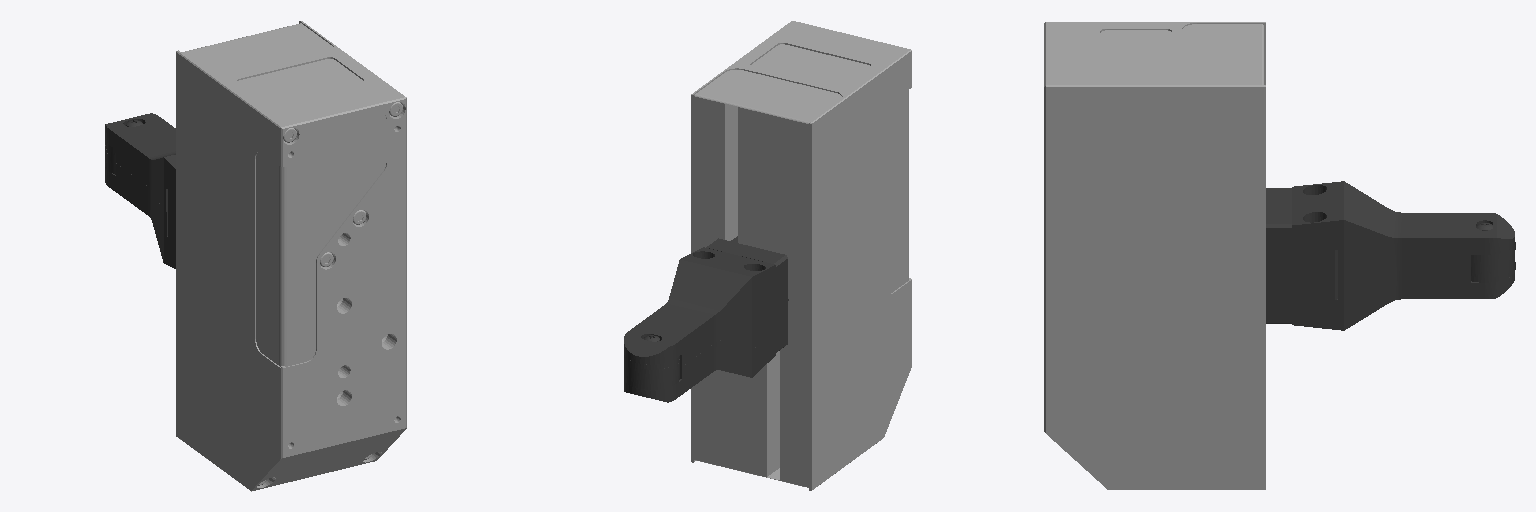
robot.urdf — ur10:
<?xml version="1.0" encoding="utf-8"?>
<!-- =================================================================================== -->
<!-- |    This document was autogenerated by xacro from [local-path]/catkin_ws/src/universal_robot/ur_description/urdf/ur10_robot.urdf.xacro | -->
<!-- |    EDITING THIS FILE BY HAND IS NOT RECOMMENDED                                 | -->
<!-- =================================================================================== -->
<robot name="ur10">
  <gazebo>
    <plugin filename="libgazebo_ros_control.so" name="ros_control">
      <!--robotNamespace>/</robotNamespace-->
      <!--robotSimType>gazebo_ros_control/DefaultRobotHWSim</robotSimType-->
    </plugin>
    <!--
    <plugin name="gazebo_ros_power_monitor_controller" filename="libgazebo_ros_power_monitor.so">
      <alwaysOn>true</alwaysOn>
      <updateRate>1.0</updateRate>
      <timeout>5</timeout>
      <powerStateTopic>power_state</powerStateTopic>
      <powerStateRate>10.0</powerStateRate>
      <fullChargeCapacity>87.78</fullChargeCapacity>
      <dischargeRate>-474</dischargeRate>
      <chargeRate>525</chargeRate>
      <dischargeVoltage>15.52</dischargeVoltage>
      <chargeVoltage>16.41</chargeVoltage>
    </plugin>
-->
  </gazebo>
  <!--
  Author: [author]
  Contributers: [author], [author], [author]
-->
  <!-- measured from model -->
  <link name="base_link">
    <visual>
      <geometry>
        <mesh filename="package://ur_description/meshes/ur10/visual/Base.dae"/>
      </geometry>
      <material name="LightGrey">
        <color rgba="0.7 0.7 0.7 1.0"/>
      </material>
    </visual>
    <collision>
      <geometry>
        <mesh filename="package://ur_description/meshes/ur10/collision/base.stl"/>
      </geometry>
    </collision>
    <inertial>
      <mass value="4.0"/>
      <origin rpy="0 0 0" xyz="0.0 0.0 0.0"/>
      <inertia ixx="0.0061063308908" ixy="0.0" ixz="0.0" iyy="0.0061063308908" iyz="0.0" izz="0.01125"/>
    </inertial>
  </link>
  <joint name="shoulder_pan_joint" type="revolute">
    <parent link="base_link"/>
    <child link="shoulder_link"/>
    <origin rpy="0.0 0.0 0.0" xyz="0.0 0.0 0.1273"/>
    <axis xyz="0 0 1"/>
    <limit effort="330.0" lower="-6.28318530718" upper="6.28318530718" velocity="2.16"/>
    <dynamics damping="0.0" friction="0.0"/>
  </joint>
  <link name="shoulder_link">
    <visual>
      <geometry>
        <mesh filename="package://ur_description/meshes/ur10/visual/Shoulder.dae"/>
      </geometry>
      <material name="LightGrey">
        <color rgba="0.7 0.7 0.7 1.0"/>
      </material>
    </visual>
    <collision>
      <geometry>
        <mesh filename="package://ur_description/meshes/ur10/collision/shoulder.stl"/>
      </geometry>
    </collision>
    <inertial>
      <mass value="7.778"/>
      <origin rpy="0 0 0" xyz="0.0 0.0 0.0"/>
      <inertia ixx="0.0314743125769" ixy="0.0" ixz="0.0" iyy="0.0314743125769" iyz="0.0" izz="0.021875625"/>
    </inertial>
  </link>
  <joint name="shoulder_lift_joint" type="revolute">
    <parent link="shoulder_link"/>
    <child link="upper_arm_link"/>
    <origin rpy="0.0 1.57079632679 0.0" xyz="0.0 0.220941 0.0"/>
    <axis xyz="0 1 0"/>
    <limit effort="330.0" lower="-6.28318530718" upper="6.28318530718" velocity="2.16"/>
    <dynamics damping="0.0" friction="0.0"/>
  </joint>
  <link name="upper_arm_link">
    <visual>
      <geometry>
        <mesh filename="package://ur_description/meshes/ur10/visual/UpperArm.dae"/>
      </geometry>
      <material name="LightGrey">
        <color rgba="0.7 0.7 0.7 1.0"/>
      </material>
    </visual>
    <collision>
      <geometry>
        <mesh filename="package://ur_description/meshes/ur10/collision/upper_arm.stl"/>
      </geometry>
    </collision>
    <inertial>
      <mass value="12.93"/>
      <origin rpy="0 0 0" xyz="0.0 -0.045 0.306"/>
      <inertia ixx="0.421753803798" ixy="0.0" ixz="0.0" iyy="0.421753803798" iyz="0.0" izz="0.036365625"/>
    </inertial>
  </link>
  <joint name="elbow_joint" type="revolute">
    <parent link="upper_arm_link"/>
    <child link="forearm_link"/>
    <origin rpy="0.0 0.0 0.0" xyz="0.0 -0.1719 0.612"/>
    <axis xyz="0 1 0"/>
    <limit effort="150.0" lower="-3.14159265359" upper="3.14159265359" velocity="3.15"/>
    <dynamics damping="0.0" friction="0.0"/>
  </joint>
  <link name="forearm_link">
    <visual>
      <geometry>
        <mesh filename="package://ur_description/meshes/ur10/visual/Forearm.dae"/>
      </geometry>
      <material name="LightGrey">
        <color rgba="0.7 0.7 0.7 1.0"/>
      </material>
    </visual>
    <collision>
      <geometry>
        <mesh filename="package://ur_description/meshes/ur10/collision/forearm.stl"/>
      </geometry>
    </collision>
    <inertial>
      <mass value="3.87"/>
      <origin rpy="0 0 0" xyz="0.0 0.0 0.28615"/>
      <inertia ixx="0.111069694097" ixy="0.0" ixz="0.0" iyy="0.111069694097" iyz="0.0" izz="0.010884375"/>
    </inertial>
  </link>
  <joint name="wrist_1_joint" type="revolute">
    <parent link="forearm_link"/>
    <child link="wrist_1_link"/>
    <origin rpy="0.0 1.57079632679 0.0" xyz="0.0 0.0 0.5723"/>
    <axis xyz="0 1 0"/>
    <limit effort="54.0" lower="-6.28318530718" upper="6.28318530718" velocity="3.2"/>
    <dynamics damping="0.0" friction="0.0"/>
  </joint>
  <link name="wrist_1_link">
    <visual>
      <geometry>
        <mesh filename="package://ur_description/meshes/ur10/visual/Wrist1.dae"/>
      </geometry>
      <material name="LightGrey">
        <color rgba="0.7 0.7 0.7 1.0"/>
      </material>
    </visual>
    <collision>
      <geometry>
        <mesh filename="package://ur_description/meshes/ur10/collision/wrist_1.stl"/>
      </geometry>
    </collision>
    <inertial>
      <mass value="1.96"/>
      <origin rpy="0 0 0" xyz="0.0 0.1149 0.0"/>
      <inertia ixx="0.0051082479567" ixy="0.0" ixz="0.0" iyy="0.0051082479567" iyz="0.0" izz="0.0055125"/>
    </inertial>
  </link>
  <joint name="wrist_2_joint" type="revolute">
    <parent link="wrist_1_link"/>
    <child link="wrist_2_link"/>
    <origin rpy="0.0 0.0 0.0" xyz="0.0 0.1149 0.0"/>
    <axis xyz="0 0 1"/>
    <limit effort="54.0" lower="-6.28318530718" upper="6.28318530718" velocity="3.2"/>
    <dynamics damping="0.0" friction="0.0"/>
  </joint>
  <link name="wrist_2_link">
    <visual>
      <geometry>
        <mesh filename="package://ur_description/meshes/ur10/visual/Wrist2.dae"/>
      </geometry>
      <material name="LightGrey">
        <color rgba="0.7 0.7 0.7 1.0"/>
      </material>
    </visual>
    <collision>
      <geometry>
        <mesh filename="package://ur_description/meshes/ur10/collision/wrist_2.stl"/>
      </geometry>
    </collision>
    <inertial>
      <mass value="1.96"/>
      <origin rpy="0 0 0" xyz="0.0 0.0 0.1157"/>
      <inertia ixx="0.0051082479567" ixy="0.0" ixz="0.0" iyy="0.0051082479567" iyz="0.0" izz="0.0055125"/>
    </inertial>
  </link>
  <joint name="wrist_3_joint" type="revolute">
    <parent link="wrist_2_link"/>
    <child link="wrist_3_link"/>
    <origin rpy="0.0 0.0 0.0" xyz="0.0 0.0 0.1157"/>
    <axis xyz="0 1 0"/>
    <limit effort="54.0" lower="-6.28318530718" upper="6.28318530718" velocity="3.2"/>
    <dynamics damping="0.0" friction="0.0"/>
  </joint>
  <link name="wrist_3_link">
    <visual>
      <geometry>
        <mesh filename="package://ur_description/meshes/ur10/visual/Wrist3.dae"/>
      </geometry>
      <material name="LightGrey">
        <color rgba="0.7 0.7 0.7 1.0"/>
      </material>
    </visual>
    <collision>
      <geometry>
        <mesh filename="package://ur_description/meshes/ur10/collision/wrist_3.stl"/>
      </geometry>
    </collision>
    <inertial>
      <mass value="0.202"/>
      <origin rpy="1.57079632679 0 0" xyz="0.0 0.07695 0.0"/>
      <inertia ixx="0.000117921661165" ixy="0.0" ixz="0.0" iyy="0.000117921661165" iyz="0.0" izz="0.000204525"/>
    </inertial>
  </link>
  <joint name="ee_fixed_joint" type="fixed">
    <parent link="wrist_3_link"/>
    <child link="ee_link"/>
    <origin rpy="0.0 0.0 1.57079632679" xyz="0.0 0.0922 0.0"/>
  </joint>
  <link name="ee_link">
    <collision>
      <geometry>
        <box size="0.01 0.01 0.01"/>
      </geometry>
      <origin rpy="0 0 0" xyz="-0.01 0 0"/>
    </collision>
    <inertial>
       <mass value="0.05"/>
       <inertia ixx="0.0003" ixy="0.0" ixz="0.0" iyy="0.0003" iyz="0.0" izz="0.0003"/>
    </inertial>
  </link>
  <transmission name="shoulder_pan_trans">
    <type>transmission_interface/SimpleTransmission</type>
    <joint name="shoulder_pan_joint">
      <hardwareInterface>hardware_interface/PositionJointInterface</hardwareInterface>
    </joint>
    <actuator name="shoulder_pan_motor">
      <mechanicalReduction>1</mechanicalReduction>
    </actuator>
  </transmission>
  <transmission name="shoulder_lift_trans">
    <type>transmission_interface/SimpleTransmission</type>
    <joint name="shoulder_lift_joint">
      <hardwareInterface>hardware_interface/PositionJointInterface</hardwareInterface>
    </joint>
    <actuator name="shoulder_lift_motor">
      <mechanicalReduction>1</mechanicalReduction>
    </actuator>
  </transmission>
  <transmission name="elbow_trans">
    <type>transmission_interface/SimpleTransmission</type>
    <joint name="elbow_joint">
      <hardwareInterface>hardware_interface/PositionJointInterface</hardwareInterface>
    </joint>
    <actuator name="elbow_motor">
      <mechanicalReduction>1</mechanicalReduction>
    </actuator>
  </transmission>
  <transmission name="wrist_1_trans">
    <type>transmission_interface/SimpleTransmission</type>
    <joint name="wrist_1_joint">
      <hardwareInterface>hardware_interface/PositionJointInterface</hardwareInterface>
    </joint>
    <actuator name="wrist_1_motor">
      <mechanicalReduction>1</mechanicalReduction>
    </actuator>
  </transmission>
  <transmission name="wrist_2_trans">
    <type>transmission_interface/SimpleTransmission</type>
    <joint name="wrist_2_joint">
      <hardwareInterface>hardware_interface/PositionJointInterface</hardwareInterface>
    </joint>
    <actuator name="wrist_2_motor">
      <mechanicalReduction>1</mechanicalReduction>
    </actuator>
  </transmission>
  <transmission name="wrist_3_trans">
    <type>transmission_interface/SimpleTransmission</type>
    <joint name="wrist_3_joint">
      <hardwareInterface>hardware_interface/PositionJointInterface</hardwareInterface>
    </joint>
    <actuator name="wrist_3_motor">
      <mechanicalReduction>1</mechanicalReduction>
    </actuator>
  </transmission>
  <gazebo reference="shoulder_link">
    <selfCollide>true</selfCollide>
  </gazebo>
  <gazebo reference="upper_arm_link">
    <selfCollide>true</selfCollide>
  </gazebo>
  <gazebo reference="forearm_link">
    <selfCollide>true</selfCollide>
  </gazebo>
  <gazebo reference="wrist_1_link">
    <selfCollide>true</selfCollide>
  </gazebo>
  <gazebo reference="wrist_3_link">
    <selfCollide>true</selfCollide>
  </gazebo>
  <gazebo reference="wrist_2_link">
    <selfCollide>true</selfCollide>
  </gazebo>
  <gazebo reference="ee_link">
    <selfCollide>true</selfCollide>
  </gazebo>
  <!-- ROS base_link to UR 'Base' Coordinates transform -->
  <link name="base"/>
  <joint name="base_link-base_fixed_joint" type="fixed">
    <!-- NOTE: this rotation is only needed as long as base_link itself is
                 not corrected wrt the real robot (ie: rotated over 180
                 degrees)
      -->
    <origin rpy="0 0 -3.14159265359" xyz="0 0 0"/>
    <parent link="base_link"/>
    <child link="base"/>
  </joint>
  <!-- Frame coincident with all-zeros TCP on UR controller -->
  <link name="tool0"/>
  <joint name="wrist_3_link-tool0_fixed_joint" type="fixed">
    <origin rpy="-1.570796 0 0" xyz="0 0.0922 0"/>
    <parent link="wrist_3_link"/>
    <child link="tool0"/>
  </joint>
  <link name="world"/>
  <joint name="world_joint" type="fixed">
    <parent link="world"/>
    <child link="base_link"/>
    <origin rpy="0.0 0.0 0.0" xyz="0.0 0.0 0.0"/>
  </joint>
  <!-- Materials -->
  <material name="wsg50_Gray">
    <color rgba="0.7 0.7 0.7 1.0"/>
  </material>
  <material name="wsg50_DarkGray">
    <color rgba="0.3 0.3 0.3 1.0"/>
  </material>
  <!-- Gripper Body -->
  <link name="gripper_link">
    <visual>
      <origin rpy="0 0 0" xyz="0 0 0"/>
      <geometry>
        <mesh filename="package://schunk_wsg50_model/meshes/wsg50_110.stl" scale="0.001 0.001 0.001"/>
      </geometry>
      <material name="wsg50_Gray"/>
    </visual>
    <collision>
      <geometry>
        <mesh filename="package://schunk_wsg50_model/meshes/wsg50_110.stl" scale="0.001 0.001 0.001"/>
      </geometry>
    </collision>
    <inertial>
       <mass value="0.9"/>
       <inertia ixx="0.000028333" ixy="0.0" ixz="0.0" iyy="0.00010833" iyz="0.0" izz="0.00012167"/>
    </inertial>
  </link>
  <!-- Fingers -->
  <link name="thumb_link">
    <visual>
      <origin rpy="0 0 0" xyz="0 0 0"/>
      <geometry>
        <mesh filename="package://schunk_wsg50_model/meshes/wsg_f.stl" scale="0.001 0.001 0.001"/>
      </geometry>
      <material name="wsg50_DarkGray"/>
    </visual>
    <collision>
      <geometry>
        <mesh filename="package://schunk_wsg50_model/meshes/wsg_f.stl" scale="0.001 0.001 0.001"/>
      </geometry>
    </collision>
    <inertial>
       <mass value="0.15"/>
       <inertia ixx="0.00008583" ixy="0.0" ixz="0.0" iyy="0.00008583" iyz="0.0" izz="0.000005"/>
    </inertial>
  </link>
  <link name="index_link">
    <visual>
      <origin rpy="0 0 0" xyz="0 0 0"/>
      <geometry>
        <mesh filename="package://schunk_wsg50_model/meshes/wsg_f.stl" scale="0.001 0.001 0.001"/>
      </geometry>
      <material name="wsg50_DarkGray"/>
    </visual>
    <collision>
      <geometry>
        <mesh filename="package://schunk_wsg50_model/meshes/wsg_f.stl" scale="0.001 0.001 0.001"/>
      </geometry>
    </collision>
    <inertial>
       <mass value="0.15"/>
       <inertia ixx="0.00008583" ixy="0.0" ixz="0.0" iyy="0.00008583" iyz="0.0" izz="0.000005"/>
    </inertial>
  </link>
  <joint name="thumb_joint" type="prismatic">
    <limit effort="1000.0" lower="0.0" upper="0.055" velocity="0.5"/>
    <parent link="gripper_link"/>
    <child link="thumb_link"/>
    <origin rpy="3.141 0 0" xyz="0 -0.096 0"/>
  </joint>
  <joint name="index_joint" type="prismatic">
    <limit effort="1000.0" lower="0.0" upper="0.055" velocity="0.5"/>
    <parent link="gripper_link"/>
    <child link="index_link"/>
    <origin rpy="3.141 3.141 0" xyz="0 -0.096 0"/>
  </joint>
  <!-- Attach the gripper to the root link -->
  <joint name="gripper_joint" type="fixed">
    <parent link="tool0"/>
    <child link="gripper_link"/>
    <origin rpy="-1.570796 0 -1.570796" xyz="0 0 0"/>
  </joint>
</robot>

--- What the picture shows (computed from the rendered views, not written in the file) ---
3 views of the same robot in one strip: view 1: azimuth 30°, elevation 25°; view 2: azimuth 150°, elevation 25°; view 3: azimuth 270°, elevation 25° (orthographic).
Robot: ur10 — 14 links, 13 joints (6 revolute, 2 prismatic, 5 fixed); root link world; default pose: every joint at zero.
Links seen in each view (by area): view 1: gripper_link, index_link, thumb_link; view 2: gripper_link, index_link, thumb_link; view 3: gripper_link, index_link, thumb_link.
Link boxes in pixels (x1,y1,x2,y2): gripper_link: (176, 21, 406, 491); index_link: (105, 113, 175, 218); thumb_link: (105, 145, 175, 268); gripper_link: (691, 21, 911, 490); index_link: (624, 236, 788, 383); thumb_link: (624, 302, 787, 402); gripper_link: (1044, 22, 1265, 489); index_link: (1266, 181, 1515, 276); thumb_link: (1266, 262, 1515, 330).
Bounding box of the posed robot: 0.05 × 0.154 × 0.146 m (x, y, z).
Meshes: 9 distinct files referenced, 3 mesh visuals loaded (2 binary STL); not drawn: 7 (reference not matched to a file when rendering).